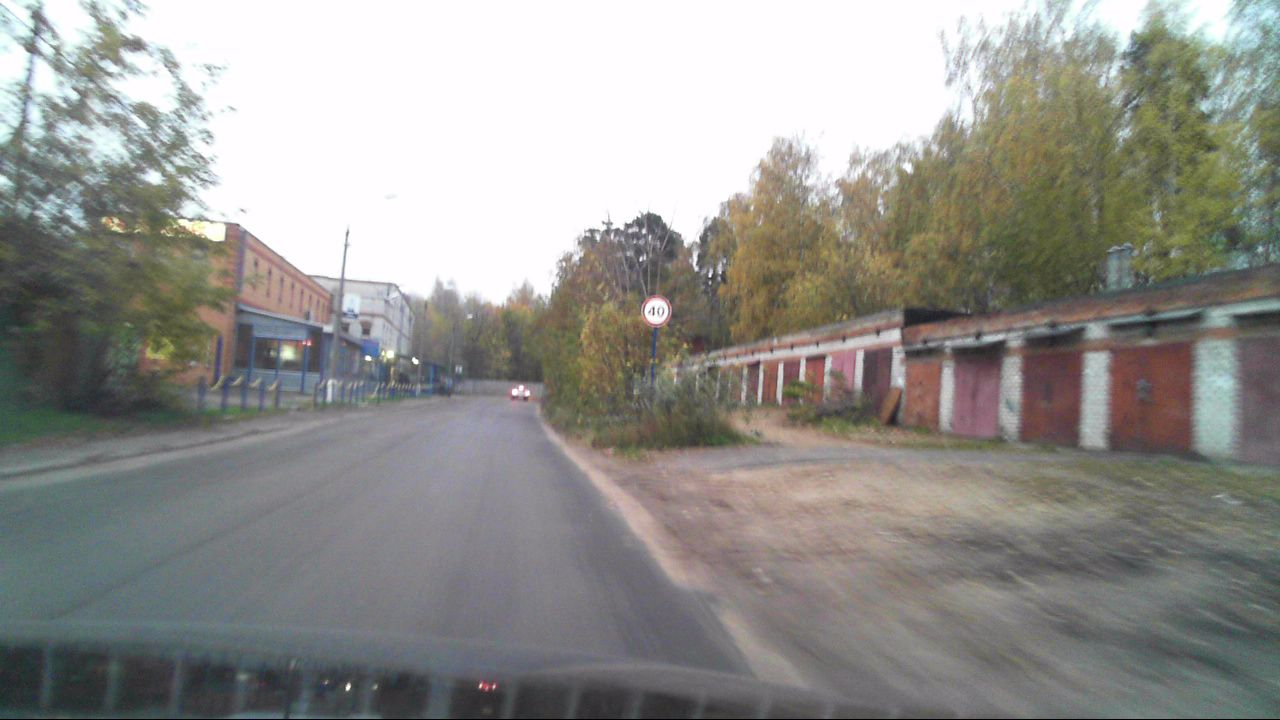speed_warning_40: (640, 295, 672, 327)
